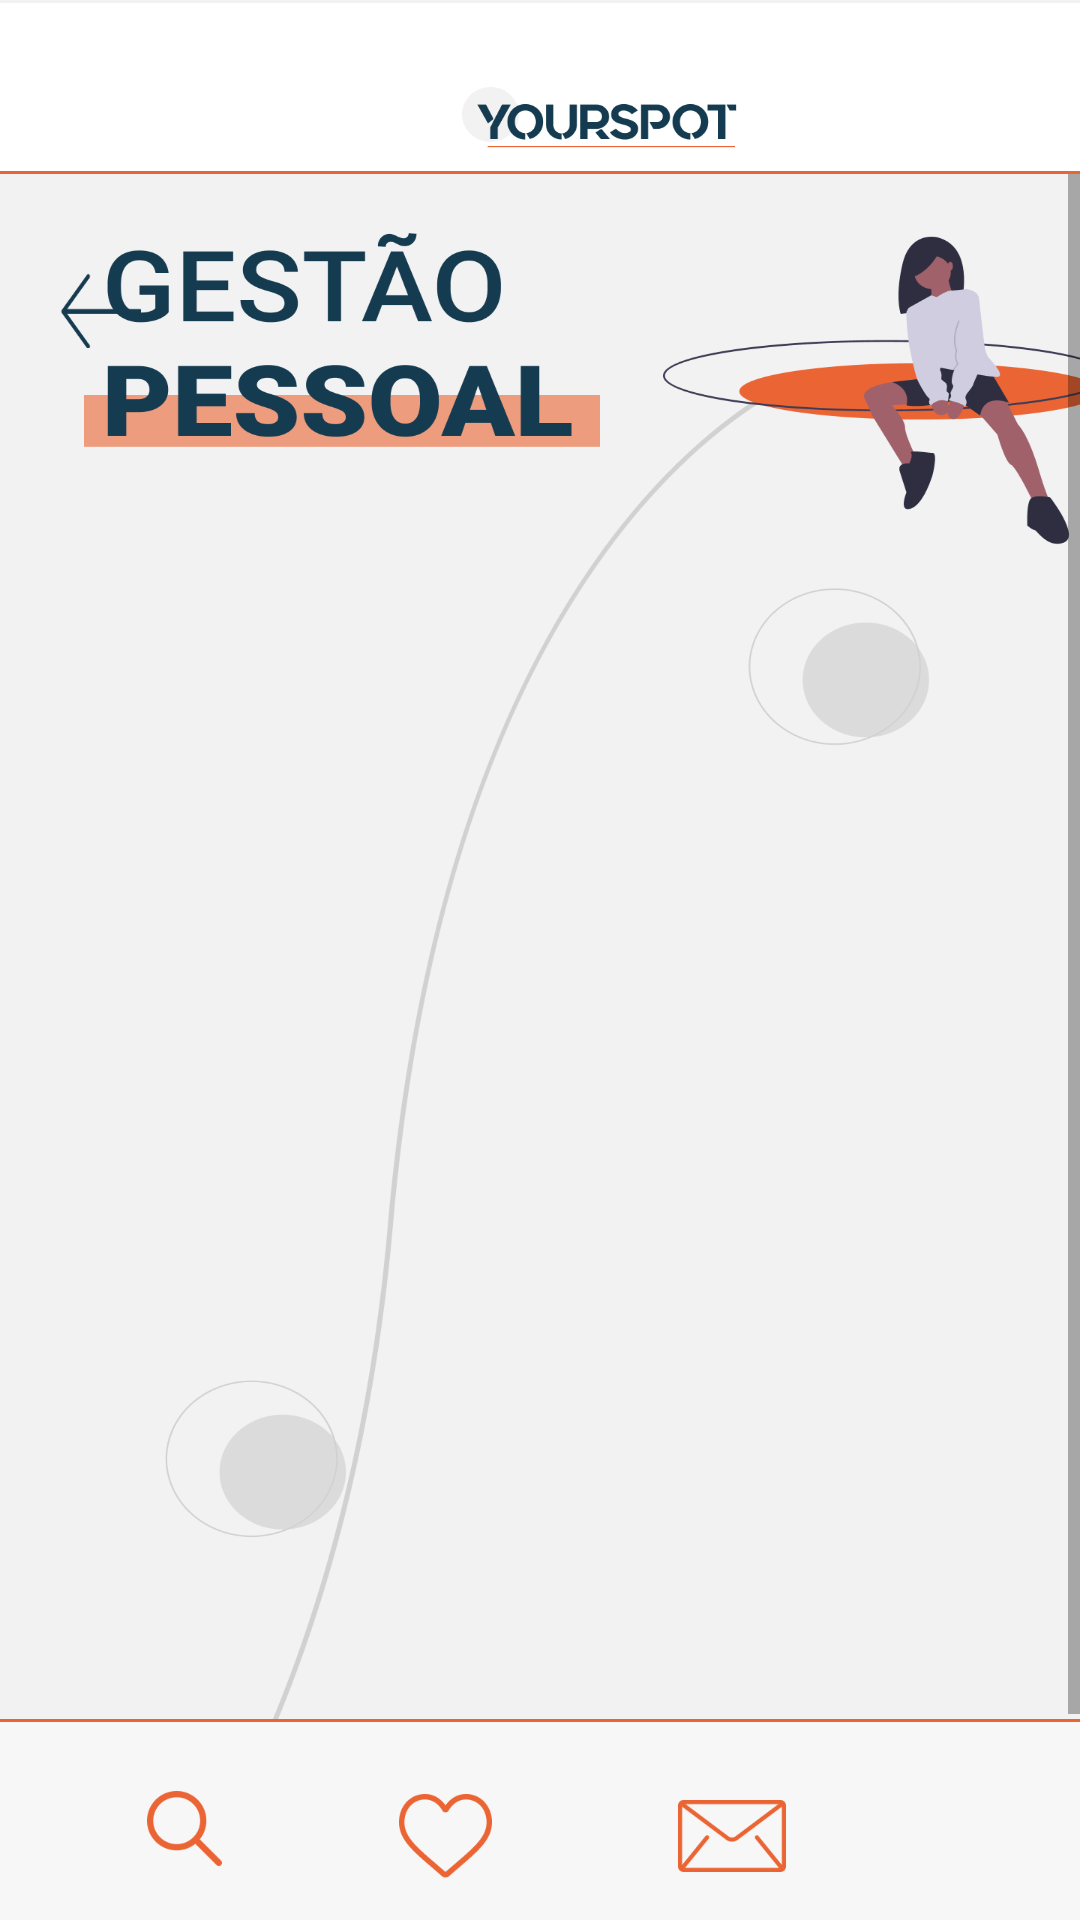

Screen size 1080*1920. Icon name, then its box in pixels as (x1,y1,x2,y2):
iconecoracao menuinf: (399,1794,492,1878)
iconemensagem menuinf: (678,1800,786,1872)
iconepesquisa menuinf: (147,1791,222,1866)
